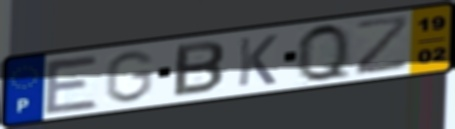B: (170, 39, 227, 100)
E: (42, 54, 102, 117)
G: (101, 49, 157, 105)
K: (235, 32, 280, 89)
Q: (294, 21, 354, 84)
Z: (352, 13, 412, 78)
